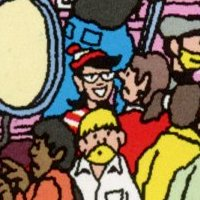wenda: (68, 47, 119, 107)
